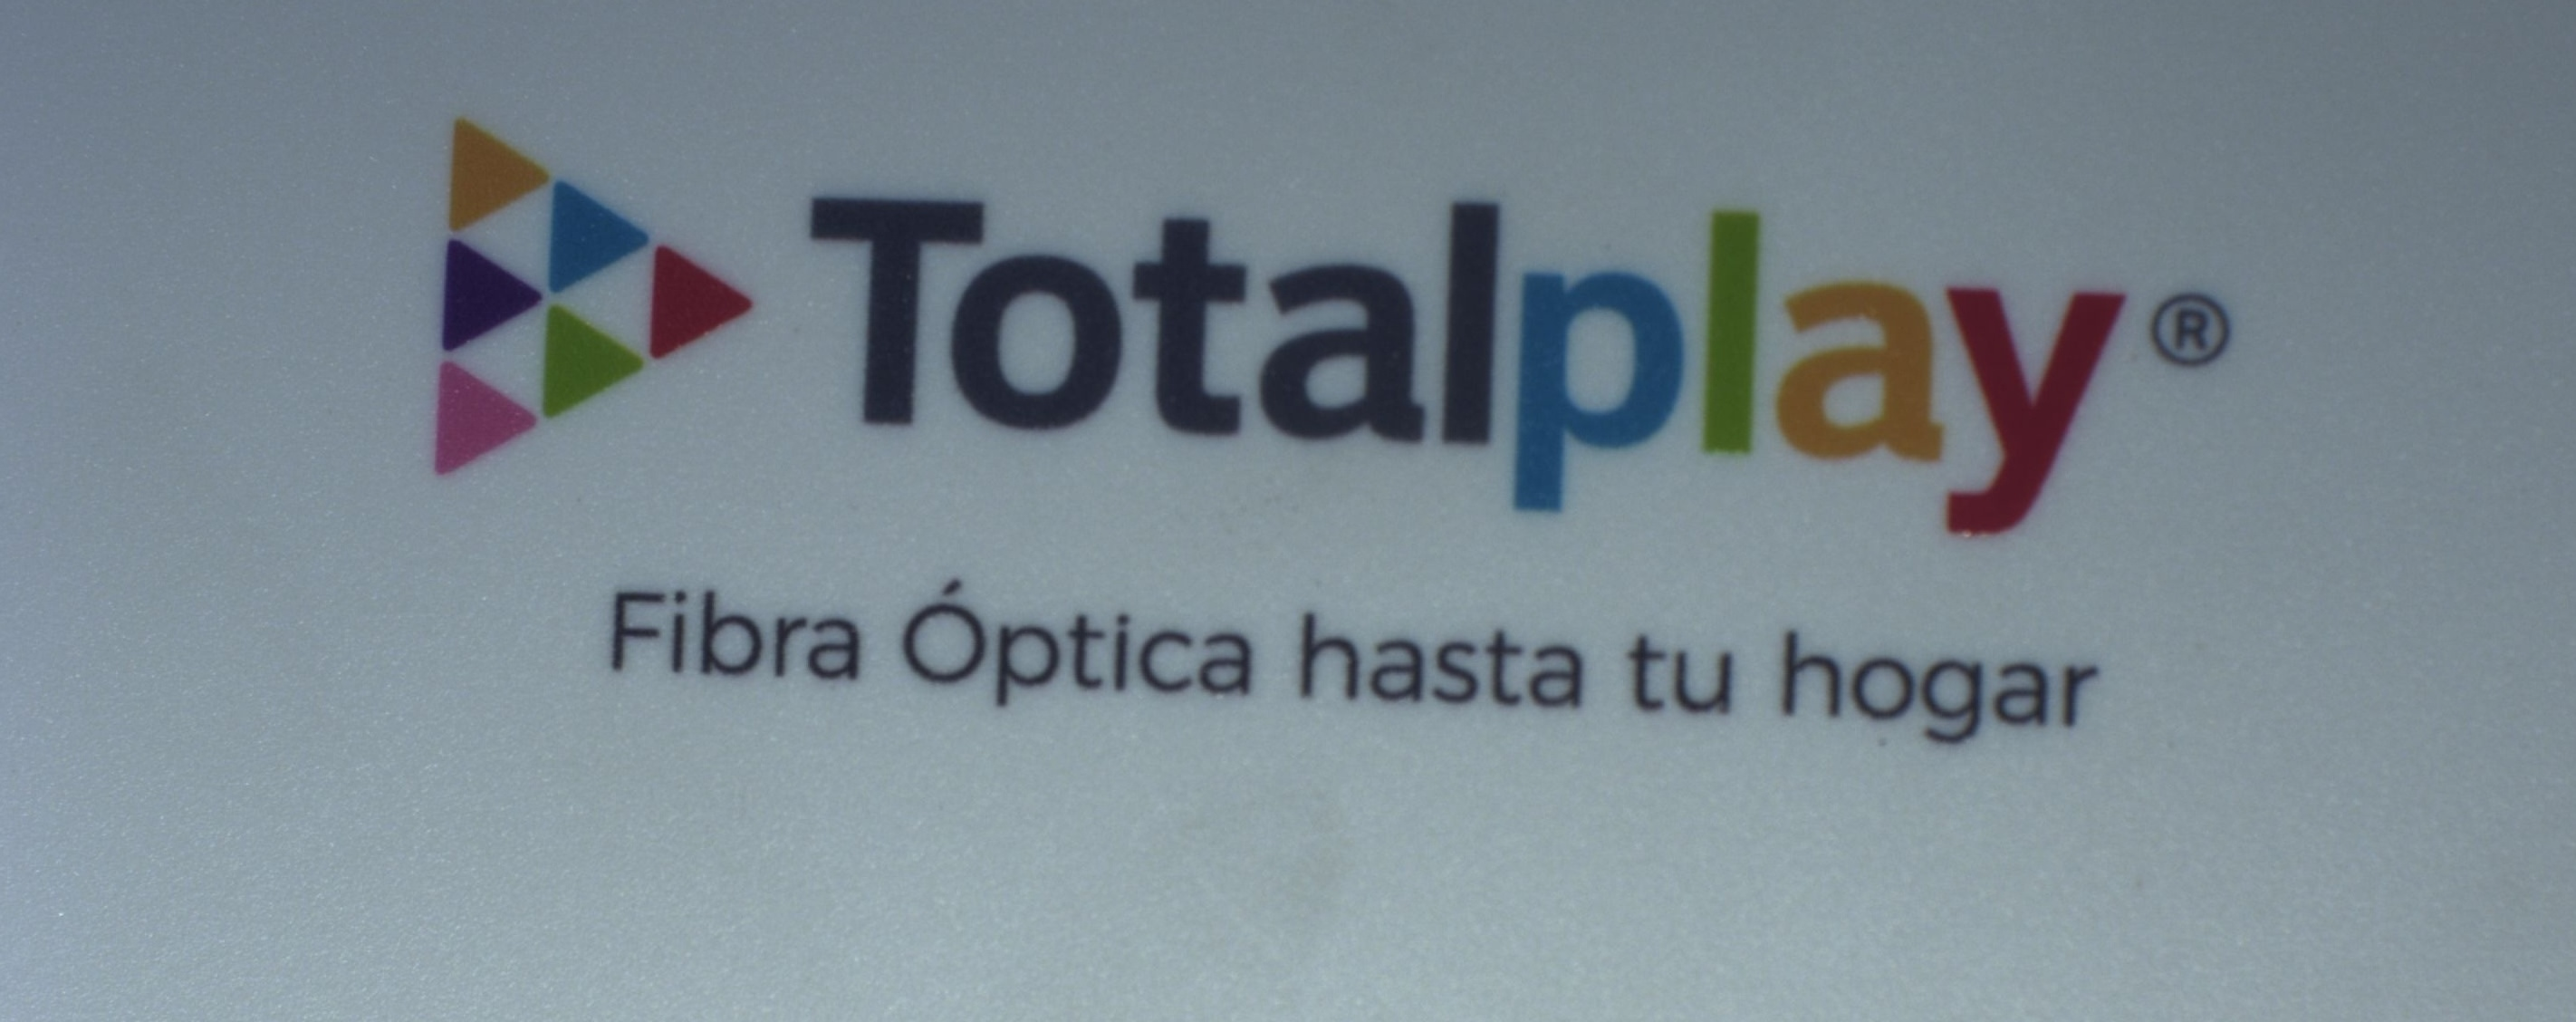BP_TotalPlay: (401, 112, 2246, 748)
